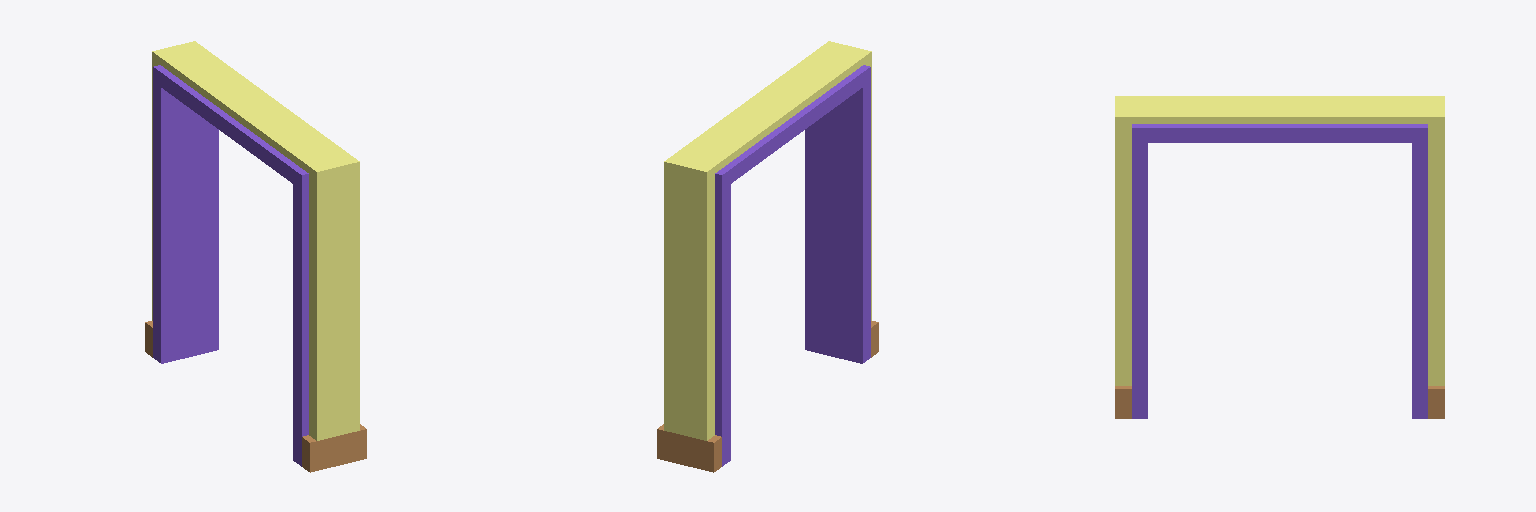
3 views of the same model, side by side, from view 1: azimuth 30°, elevation 25°; view 2: azimuth 150°, elevation 25°; view 3: azimuth 270°, elevation 25° (orthographic).
Parts seen in each view (by area): view 1: object 1; view 2: object 1; view 3: object 1.
Boxes of the visible parts, box(x1,y1,x2,y2) form: object 1: box(145, 41, 366, 472); object 1: box(657, 41, 878, 472); object 1: box(1115, 96, 1444, 418).
Bounding box in the file's own units: 0.8 × 4 × 4.
Materials: 1 (1 with a texture image).